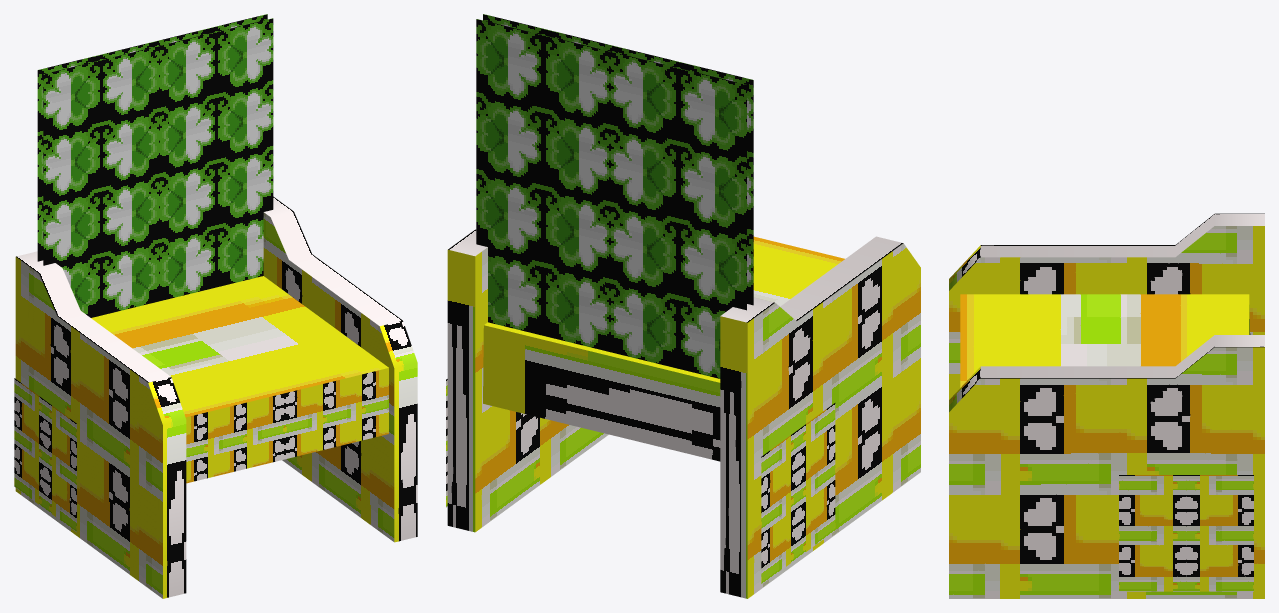
The model's file is 3852kg3_ser33.gltf.
3 views of the same model, side by side, from view 1: azimuth 30°, elevation 25°; view 2: azimuth 150°, elevation 25°; view 3: azimuth 270°, elevation 25° (orthographic). The views are drawn at different scales.
Visible parts, largest first — view 1: 3852kg3_ser33; view 2: 3852kg3_ser33; view 3: 3852kg3_ser33.
Part boxes in pixels (bbox=[...]): 3852kg3_ser33: bbox=[14, 14, 417, 598]; 3852kg3_ser33: bbox=[446, 14, 920, 598]; 3852kg3_ser33: bbox=[949, 213, 1264, 598].
Size of the model in its own units: 0.9844 by 1.5 by 0.936.
2 materials, 2 textured.
